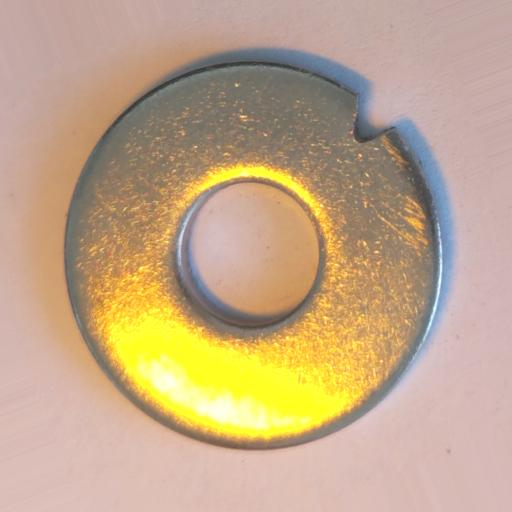burr: (351, 92, 396, 145)
